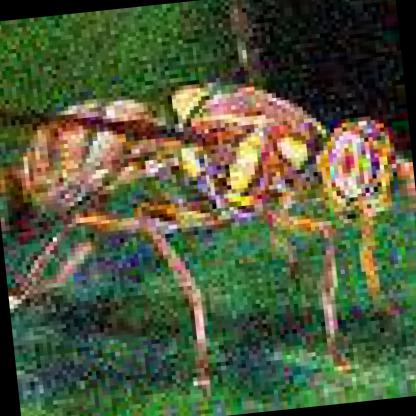fruit fly: (26, 12, 403, 383)
